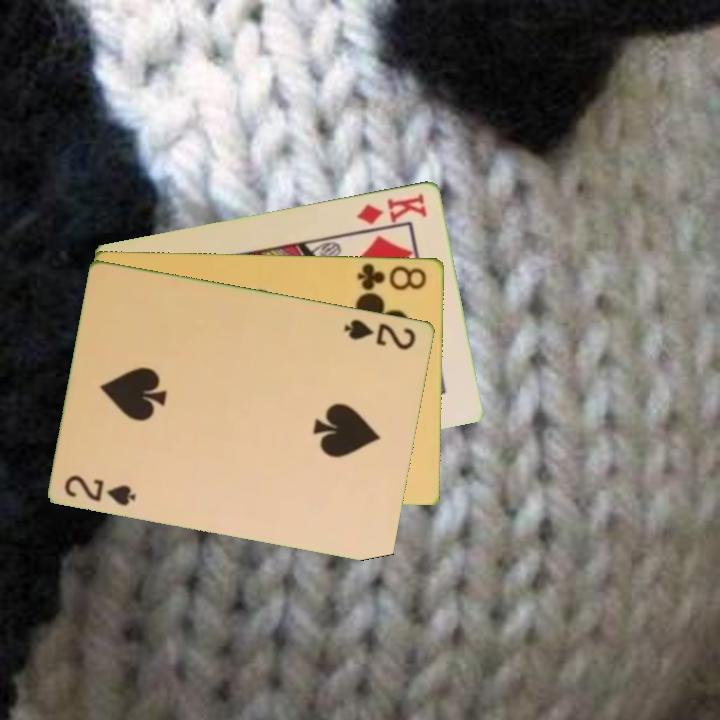2s: (340, 315, 419, 353), (61, 471, 140, 509)
8c: (354, 259, 430, 293)
Kd: (353, 189, 431, 227)
